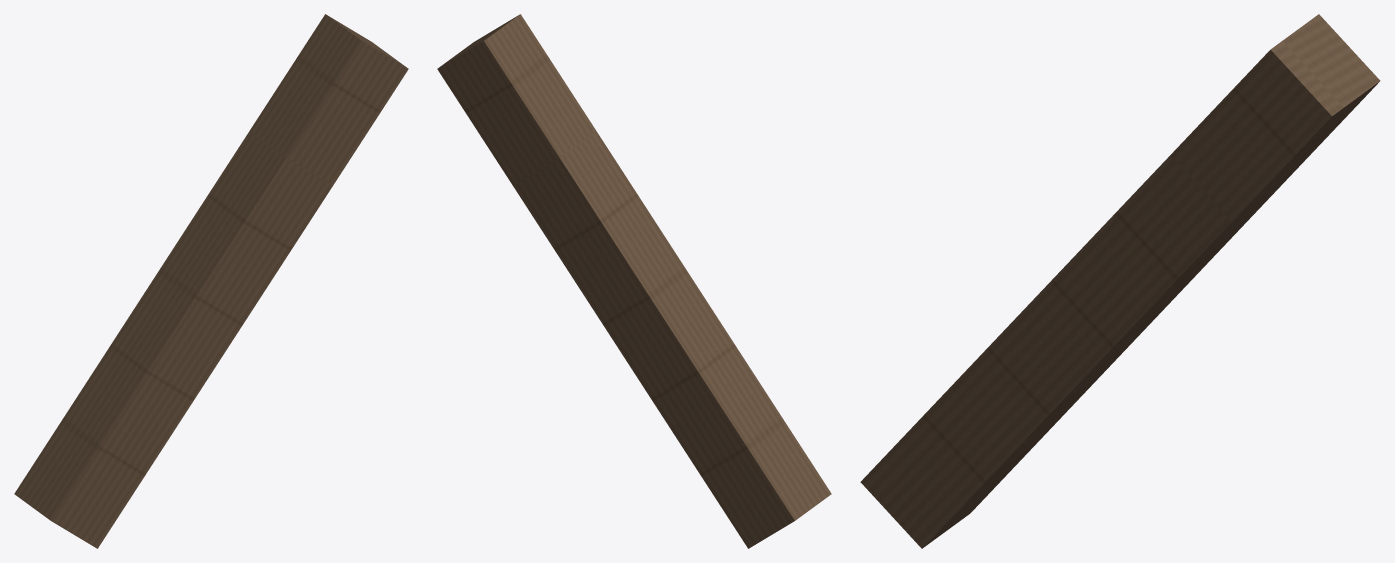
The model's file is oak_knee_brace.glb.
The picture shows the model from 3 angles, left to right: view 1: azimuth 30°, elevation 25°; view 2: azimuth 150°, elevation 25°; view 3: azimuth 330°, elevation 25°; orthographic projection. The views are drawn at different scales.
Parts seen in each view (by area): view 1: oak_knee_brace; view 2: oak_knee_brace; view 3: oak_knee_brace.
Part boxes in pixels (x1,y1,x2,y2): oak_knee_brace: (14,14,408,548); oak_knee_brace: (437,14,831,548); oak_knee_brace: (860,14,1380,548).
Size of the model in its own units: 0.9546 by 1.13 by 0.17.
1 material, 1 textured.
